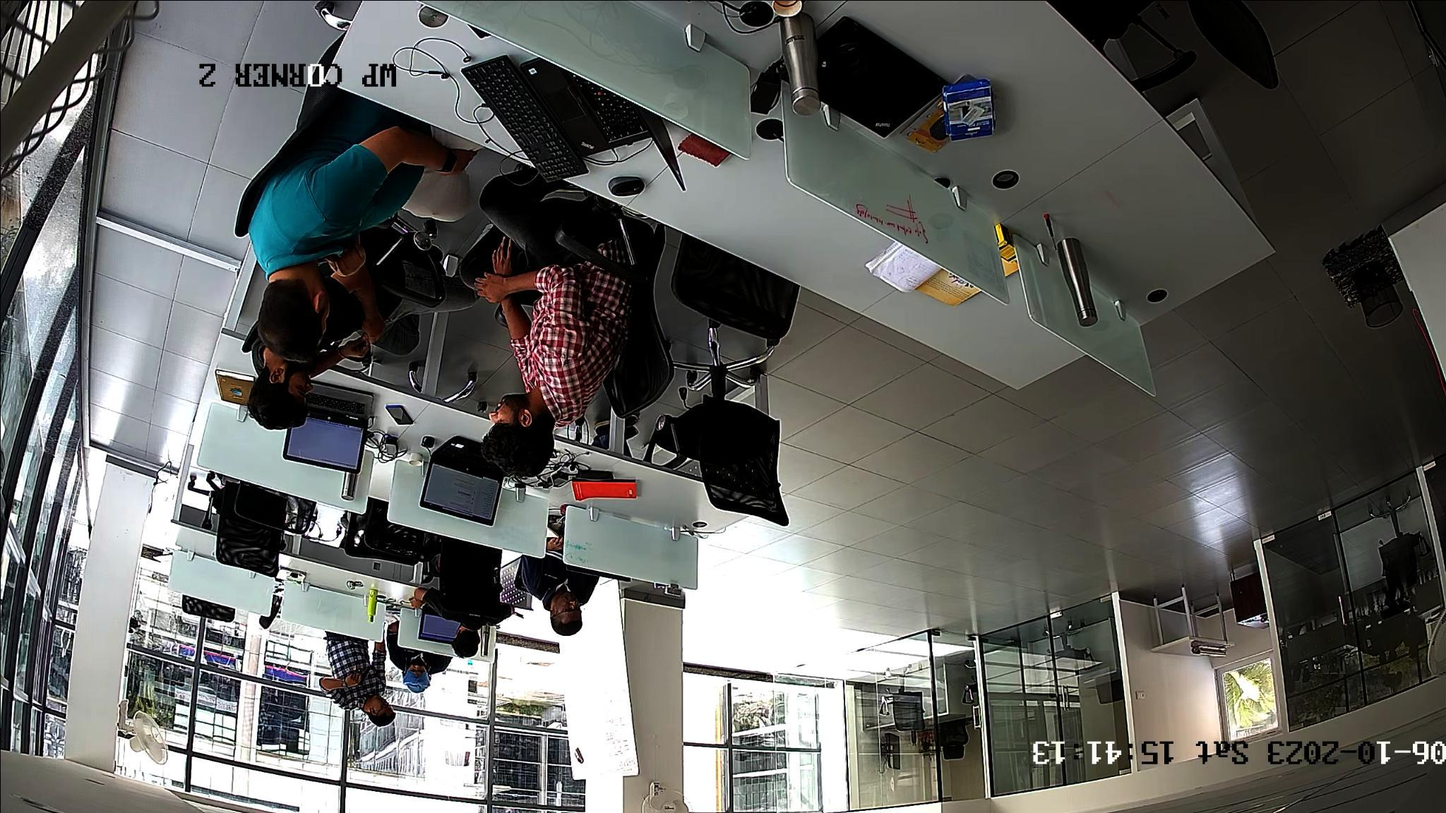gun: (348, 666, 370, 685)
